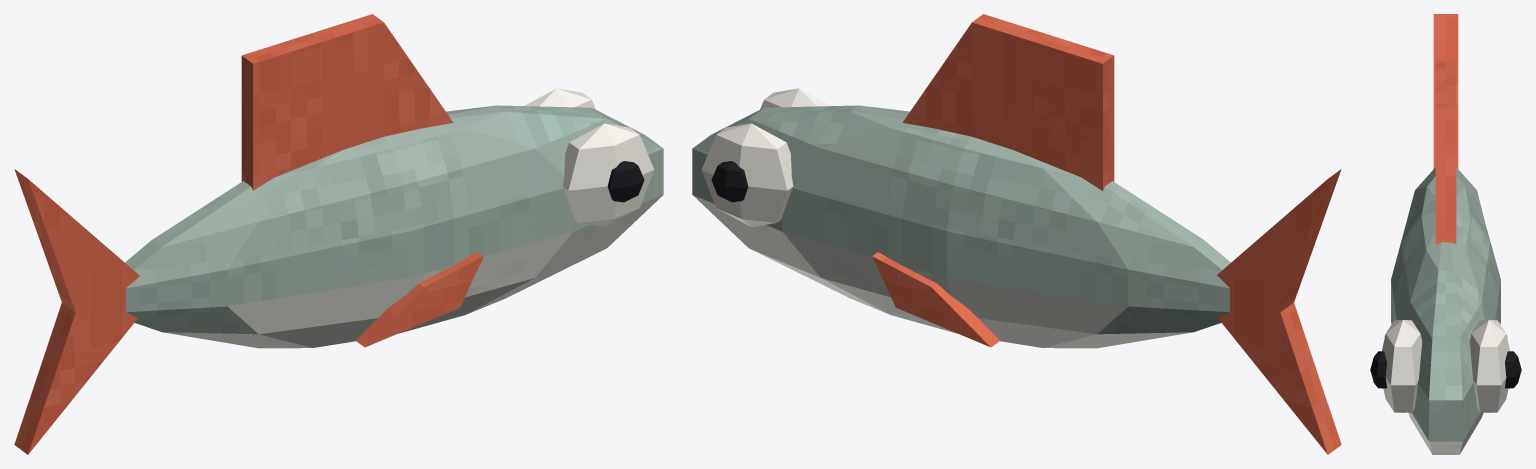
3 renders of one model, left to right at view 1: azimuth 30°, elevation 25°; view 2: azimuth 150°, elevation 25°; view 3: azimuth 270°, elevation 25°, orthographic. The views are drawn at different scales.
Visible parts, largest first — view 1: Fish_roach; view 2: Fish_roach; view 3: Fish_roach.
Boxes of the visible parts, box(x1,y1,x2,y2) form: Fish_roach: box(14, 14, 663, 454); Fish_roach: box(692, 14, 1341, 454); Fish_roach: box(1370, 14, 1521, 454).
Size of the model in its own units: 0.3191 by 0.166 by 0.0738.
Materials: 5 (5 with a texture image).
